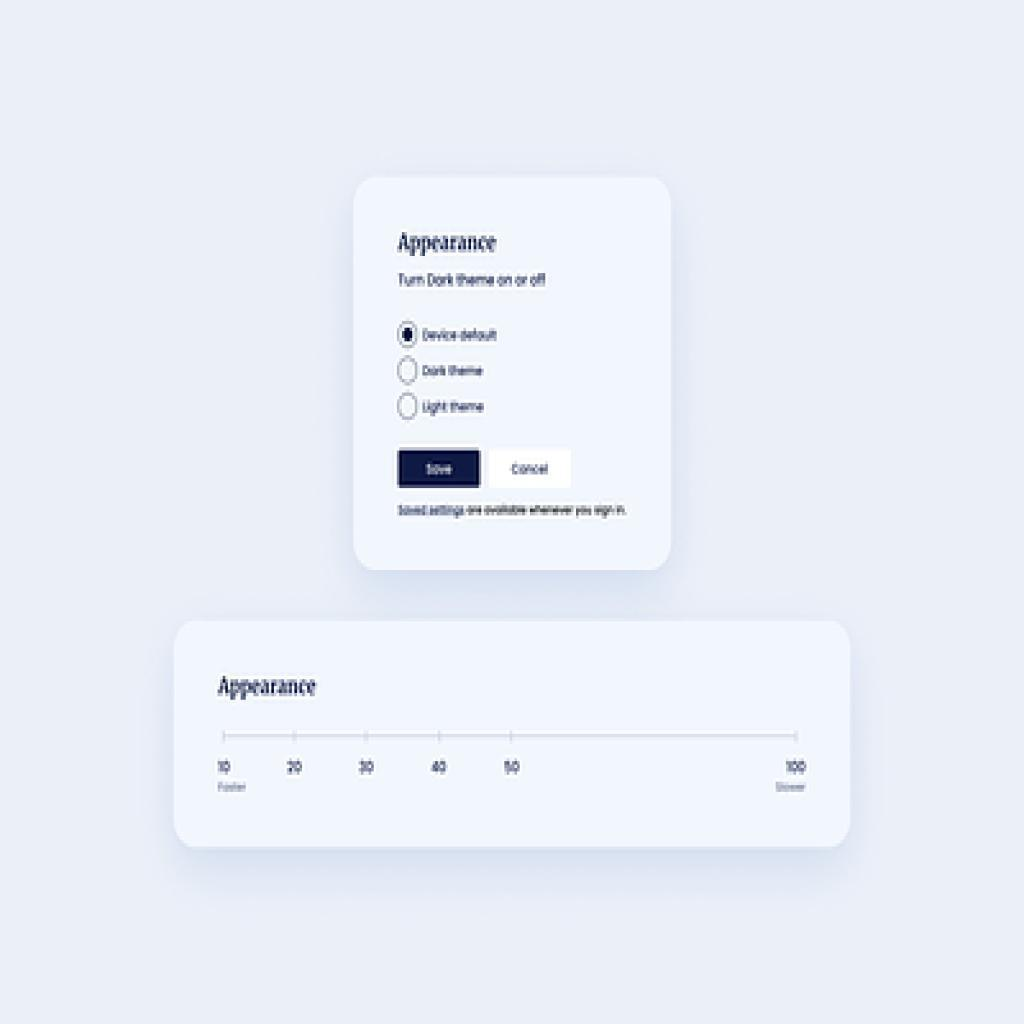button: (486, 448, 571, 489), (398, 449, 481, 488)
label: (397, 270, 550, 291), (216, 669, 319, 698), (397, 231, 502, 258), (421, 326, 500, 347), (421, 397, 489, 418), (422, 364, 489, 381)
radio: (396, 390, 417, 425), (396, 355, 419, 385), (398, 320, 419, 348)
